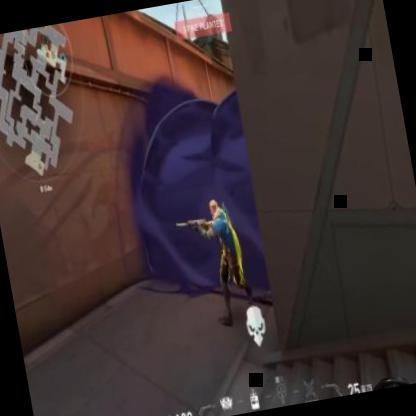enemy: (197, 193, 256, 328)
enemy_head: (207, 198, 219, 219)
